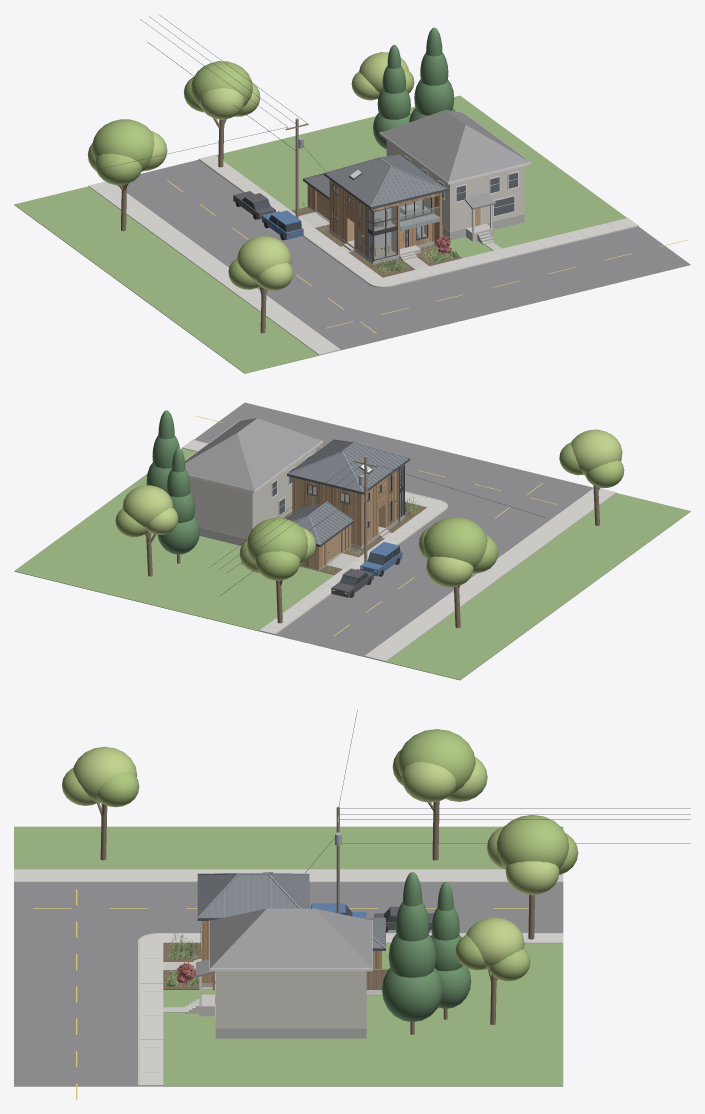
File: clay-vancouver-laneway-house-clay-v001.glb
3 views of the same model, one above another, from view 1: azimuth 30°, elevation 25°; view 2: azimuth 150°, elevation 25°; view 3: azimuth 270°, elevation 25° (orthographic). The views are drawn at different scales.
Visible parts, largest first — view 1: CLAY_LAWN, CLAY_ASPHALT, CLAY_PAVING, CLAY_SHINGLE, CLAY_TREE, CLAY_TREE2, CLAY_CONIFER, CLAY_METAL, CLAY_STUCCO, CLAY_CEDAR, CLAY_GLASS, CLAY_METAL_RIB (+15 smaller); view 2: CLAY_LAWN, CLAY_ASPHALT, CLAY_TREE, CLAY_PAVING, CLAY_SHINGLE, CLAY_TREE2, CLAY_METAL, CLAY_STUCCO, CLAY_CONIFER, CLAY_CEDAR, CLAY_METAL_RIB, CLAY_CEDAR_LIGHT (+14 smaller); view 3: CLAY_LAWN, CLAY_ASPHALT, CLAY_PAVING, CLAY_SHINGLE, CLAY_TREE, CLAY_TREE2, CLAY_STUCCO, CLAY_CONIFER, CLAY_METAL, CLAY_METAL_RIB, CLAY_FOUNDATION, CLAY_BARK (+4 smaller).
Part boxes in pixels (x1,y1,x2,y2): CLAY_LAWN: (14,95,626,373); CLAY_ASPHALT: (116,159,690,350); CLAY_PAVING: (88,155,637,355); CLAY_SHINGLE: (381,110,530,209); CLAY_TREE: (92,61,414,289); CLAY_TREE2: (87,52,408,290); CLAY_CONIFER: (373,27,455,149); CLAY_METAL: (304,155,444,206); CLAY_STUCCO: (386,140,524,232); CLAY_CEDAR: (307,179,441,256); CLAY_GLASS: (333,185,438,259); CLAY_METAL_RIB: (303,154,446,207); CLAY_LAWN: (14,448,690,680); CLAY_ASPHALT: (194,402,593,656); CLAY_TREE: (115,442,624,580); CLAY_PAVING: (182,440,616,662); CLAY_SHINGLE: (185,418,321,490); CLAY_TREE2: (122,429,622,587); CLAY_METAL: (287,440,408,544); CLAY_STUCCO: (189,448,315,538); CLAY_CONIFER: (146,410,199,554); CLAY_CEDAR: (292,464,404,569); CLAY_METAL_RIB: (286,439,409,544); CLAY_CEDAR_LIGHT: (295,466,402,569); CLAY_LAWN: (14,826,563,1086); CLAY_ASPHALT: (14,882,563,1086); CLAY_PAVING: (14,869,563,1086); CLAY_SHINGLE: (196,908,372,977); CLAY_TREE: (97,729,578,981); CLAY_TREE2: (62,746,559,969); CLAY_STUCCO: (215,971,366,1028); CLAY_CONIFER: (382,872,471,1022); CLAY_METAL: (198,874,385,948); CLAY_METAL_RIB: (198,873,385,948); CLAY_FOUNDATION: (201,983,366,1038); CLAY_BARK: (97,801,534,1034).
Size of the model in its own units: 50.5 by 14.04 by 53.
